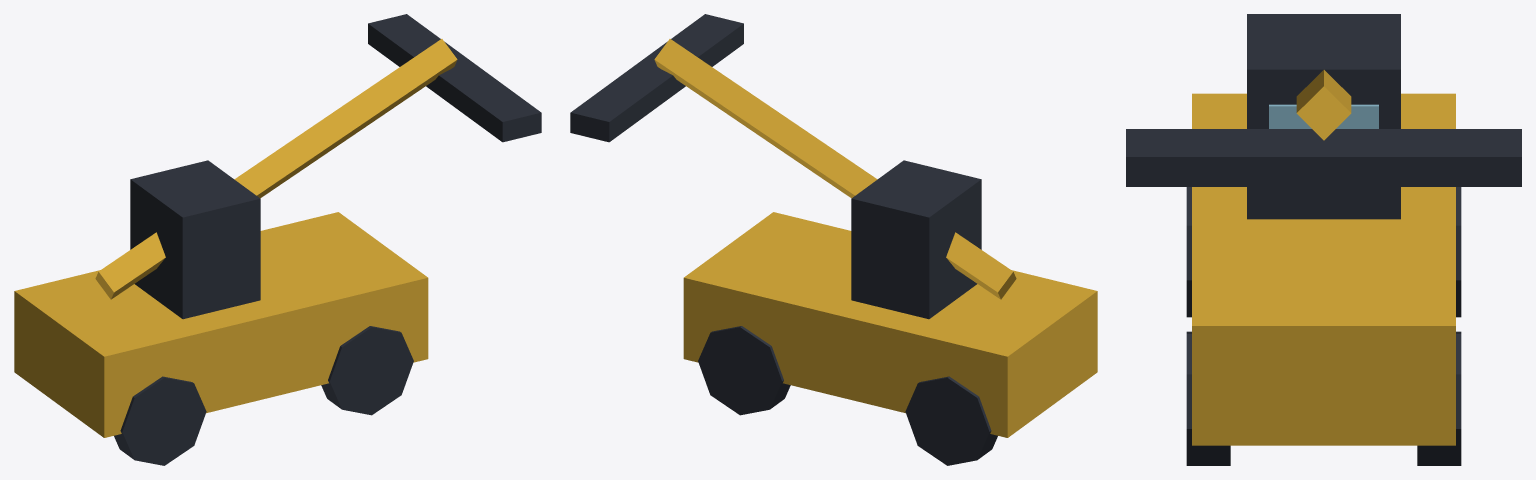
File: reach_stacker.glb
3 renders of one model, left to right at view 1: azimuth 30°, elevation 25°; view 2: azimuth 150°, elevation 25°; view 3: azimuth 270°, elevation 25°, orthographic. The views are drawn at different scales.
Visible parts, largest first — view 1: reach_stacker; view 2: reach_stacker; view 3: reach_stacker.
Boxes of the visible parts, x1,y1,x2,y2 form: reach_stacker: (14,14,541,465); reach_stacker: (570,14,1097,465); reach_stacker: (1126,14,1521,465).
Bounding box in the file's own units: 6.4 × 4.63 × 3.6.
